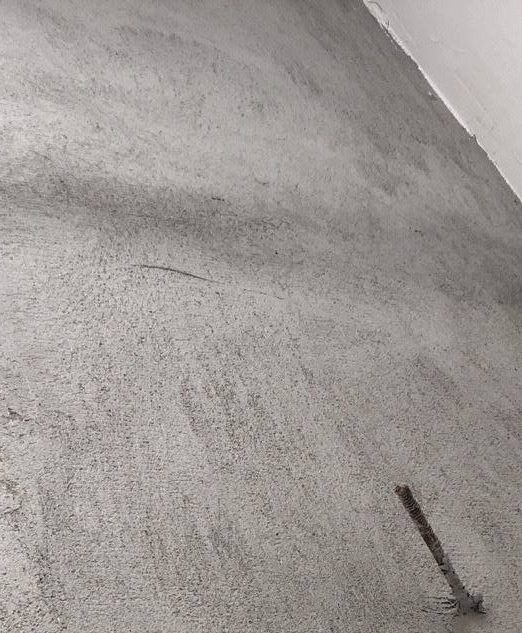Exposed reinforcement: (393, 483, 477, 611)
